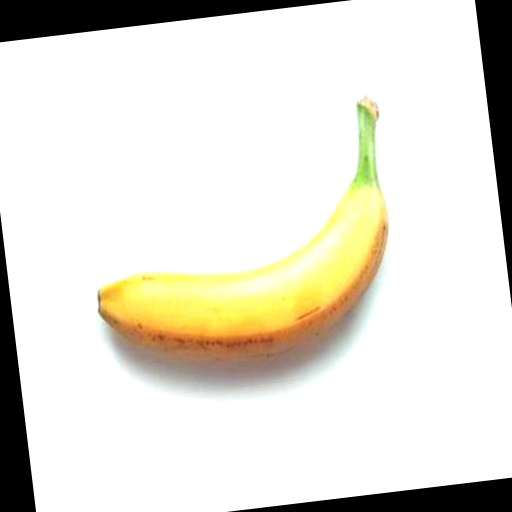fruit: (98, 95, 388, 358)
